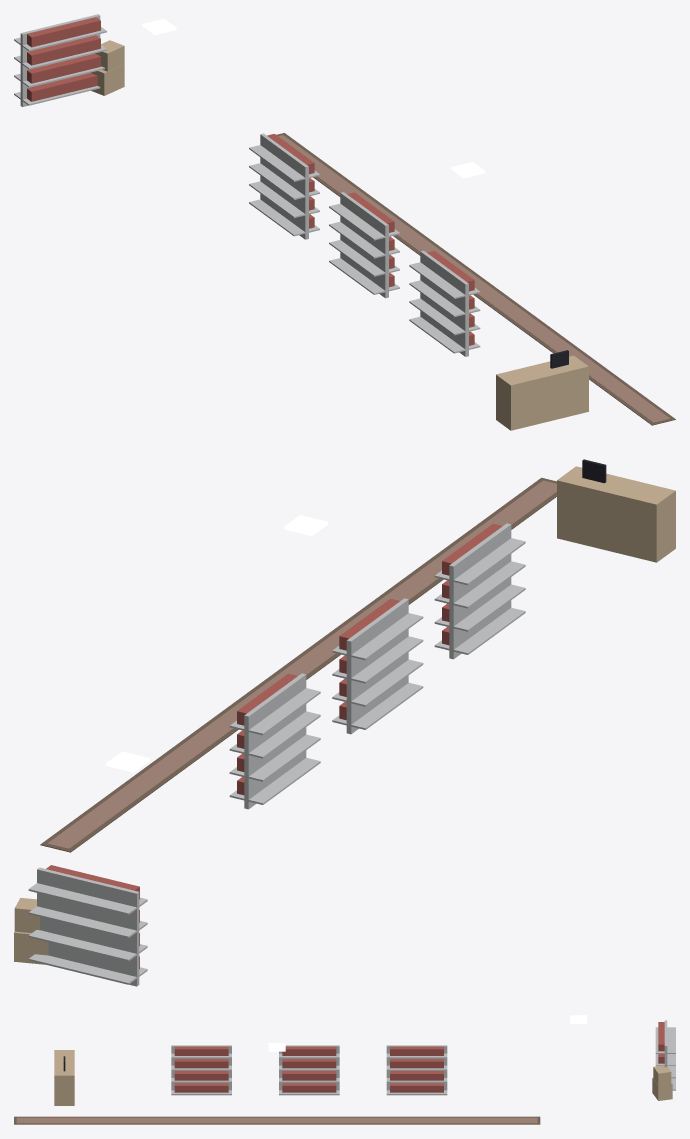
Rendered from fine-s0.glb.
3 views of the same model, one above another, from view 1: azimuth 30°, elevation 25°; view 2: azimuth 150°, elevation 25°; view 3: azimuth 270°, elevation 25° (orthographic). The views are drawn at different scales.
Parts seen in each view (by area): view 1: soft-s0, shelving.000, shop-counter.000, shelf.002, shelf.000, shelf.001, cardboard-box.000; view 2: soft-s0, shelving.000, shop-counter.000, shelf.000, shelf.002, shelf.001, cardboard-box.000; view 3: soft-s0, shelf.000, shelf.002, shelf.001, shop-counter.000, shelving.000, cardboard-box.000.
Boxes of the visible parts, x1=… form: soft-s0: x1=276, y1=133, x2=675, y2=425; shelving.000: x1=14, y1=14, x2=106, y2=106; shop-counter.000: x1=496, y1=350, x2=588, y2=430; shelf.002: x1=409, y1=250, x2=480, y2=356; shelf.000: x1=249, y1=133, x2=319, y2=239; shelf.001: x1=329, y1=192, x2=399, y2=298; cardboard-box.000: x1=90, y1=40, x2=124, y2=95; soft-s0: x1=40, y1=477, x2=556, y2=852; shelving.000: x1=28, y1=865, x2=147, y2=986; shop-counter.000: x1=557, y1=459, x2=675, y2=562; shelf.000: x1=229, y1=673, x2=320, y2=809; shelf.002: x1=434, y1=523, x2=525, y2=659; shelf.001: x1=332, y1=598, x2=423, y2=734; cardboard-box.000: x1=14, y1=898, x2=48, y2=964; soft-s0: x1=14, y1=1116, x2=540, y2=1124; shelf.000: x1=386, y1=1045, x2=447, y2=1095; shelf.002: x1=171, y1=1045, x2=231, y2=1095; shelf.001: x1=279, y1=1045, x2=339, y2=1095; shop-counter.000: x1=54, y1=1050, x2=74, y2=1105; shelving.000: x1=655, y1=1020, x2=675, y2=1090; cardboard-box.000: x1=652, y1=1066, x2=672, y2=1100.
Size of the model in its own units: 3.92 by 2.44 by 19.68.
